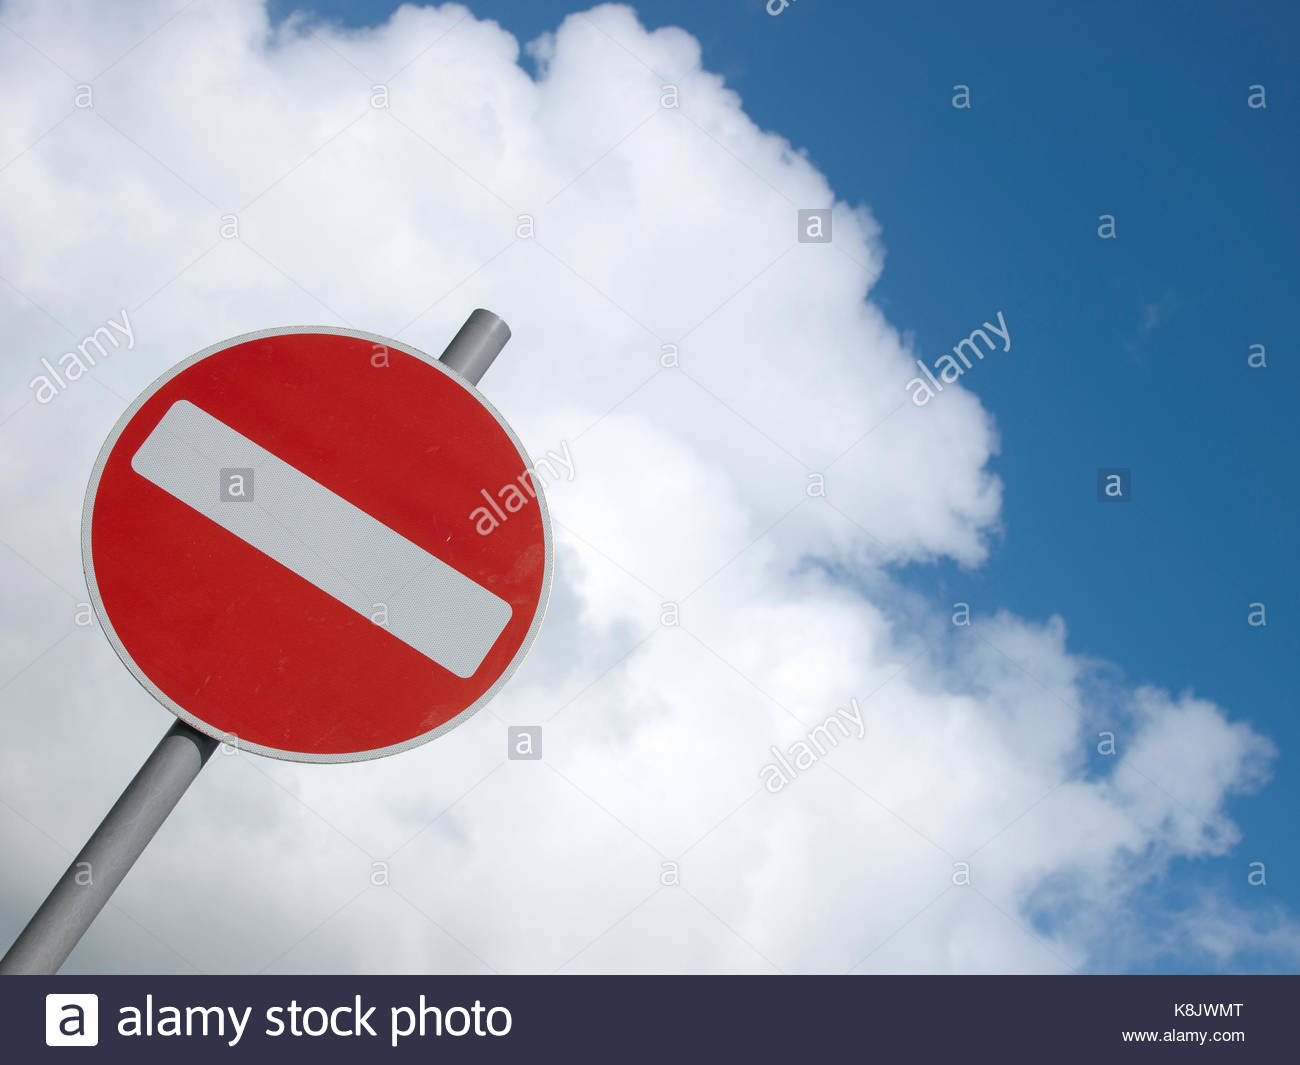No_entry: (77, 324, 554, 767)
